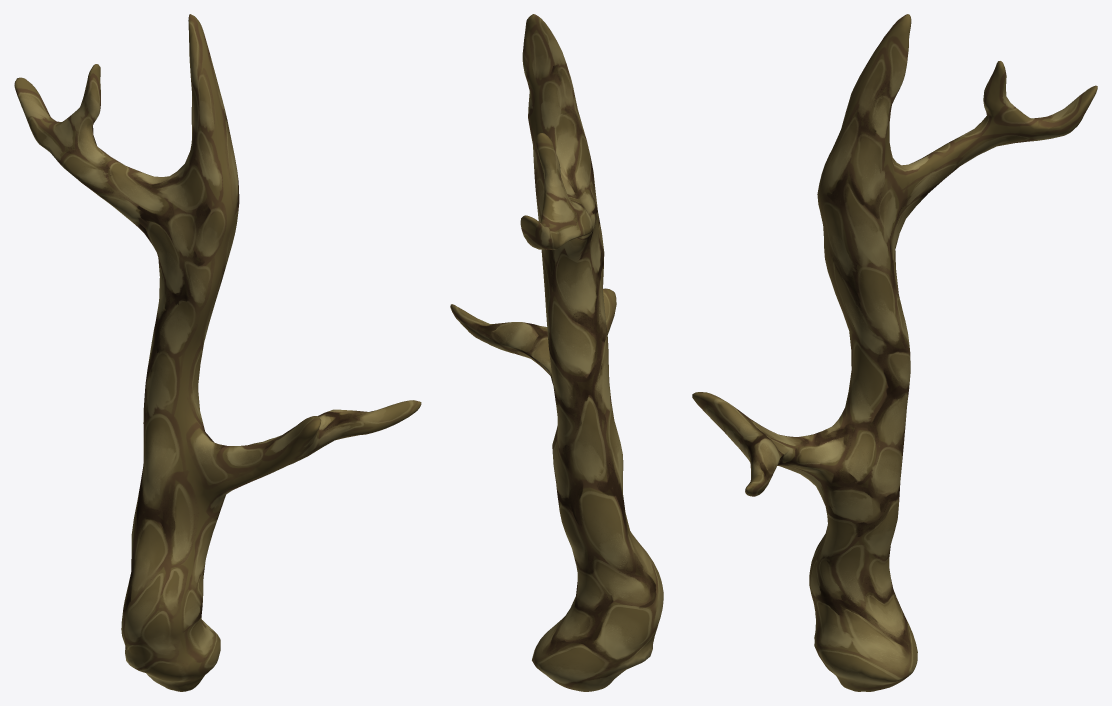
Rendered from branch2_fat.fbx.
3 views of the same model, side by side, from view 1: azimuth 30°, elevation 25°; view 2: azimuth 150°, elevation 25°; view 3: azimuth 270°, elevation 25° (orthographic). The views are drawn at different scales.
Parts seen in each view (by area): view 1: branch6; view 2: branch6; view 3: branch6.
Part boxes in pixels (x1,y1,x2,y2): branch6: (14, 14, 421, 691); branch6: (450, 14, 663, 691); branch6: (692, 14, 1097, 691).
Size of the model in its own units: 331 by 832 by 443.
Materials: 1 (1 with a texture image).
